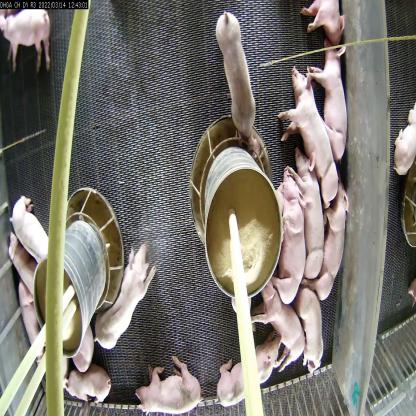Pig: (95, 251, 159, 361), (285, 66, 335, 202), (249, 270, 308, 368), (219, 333, 287, 415), (292, 151, 329, 288), (220, 19, 256, 144), (268, 166, 302, 298), (317, 183, 351, 309), (315, 33, 348, 155), (291, 272, 328, 372), (143, 362, 207, 415), (8, 200, 53, 263), (61, 368, 115, 415)
